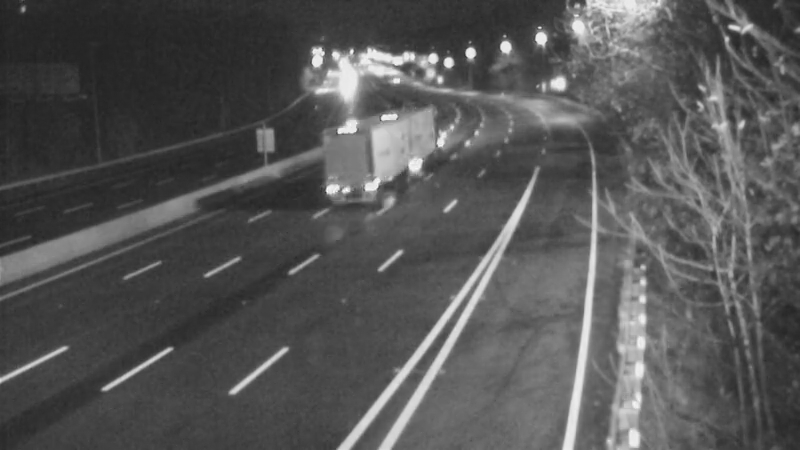vehicle: (352, 112, 402, 162)
